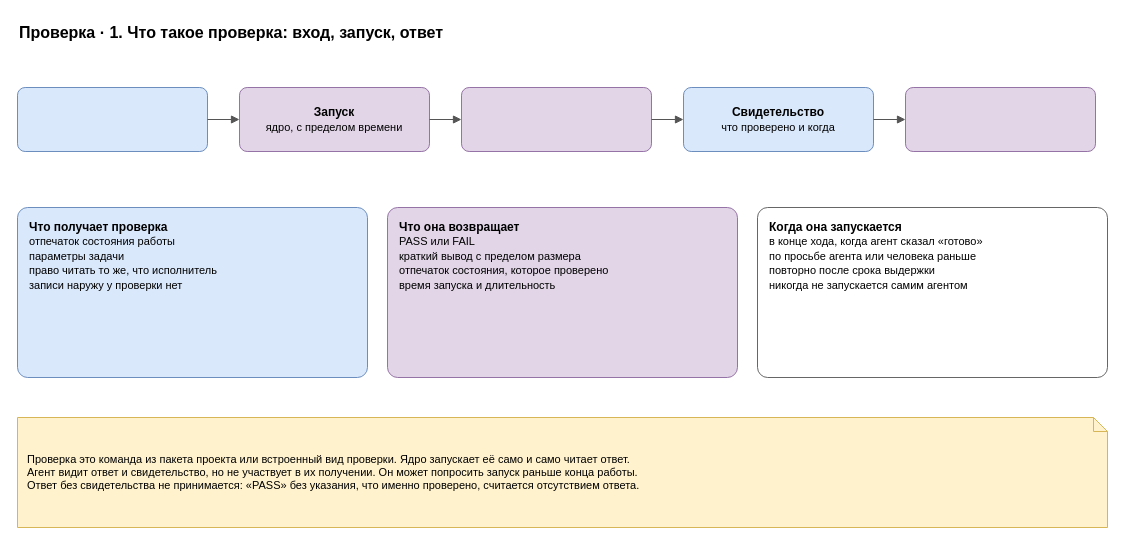
This 1125x545 diagram has some shape labels left out. The centre of each missing label's shape, as x and y in pixels:
"Вход отпечаток состояния работы" belongs at point (112, 119).
"Журнал ответ с отпечатком" belongs at point (1000, 119).
"Ответ PASS, FAIL или нет ответа" belongs at point (556, 119).
